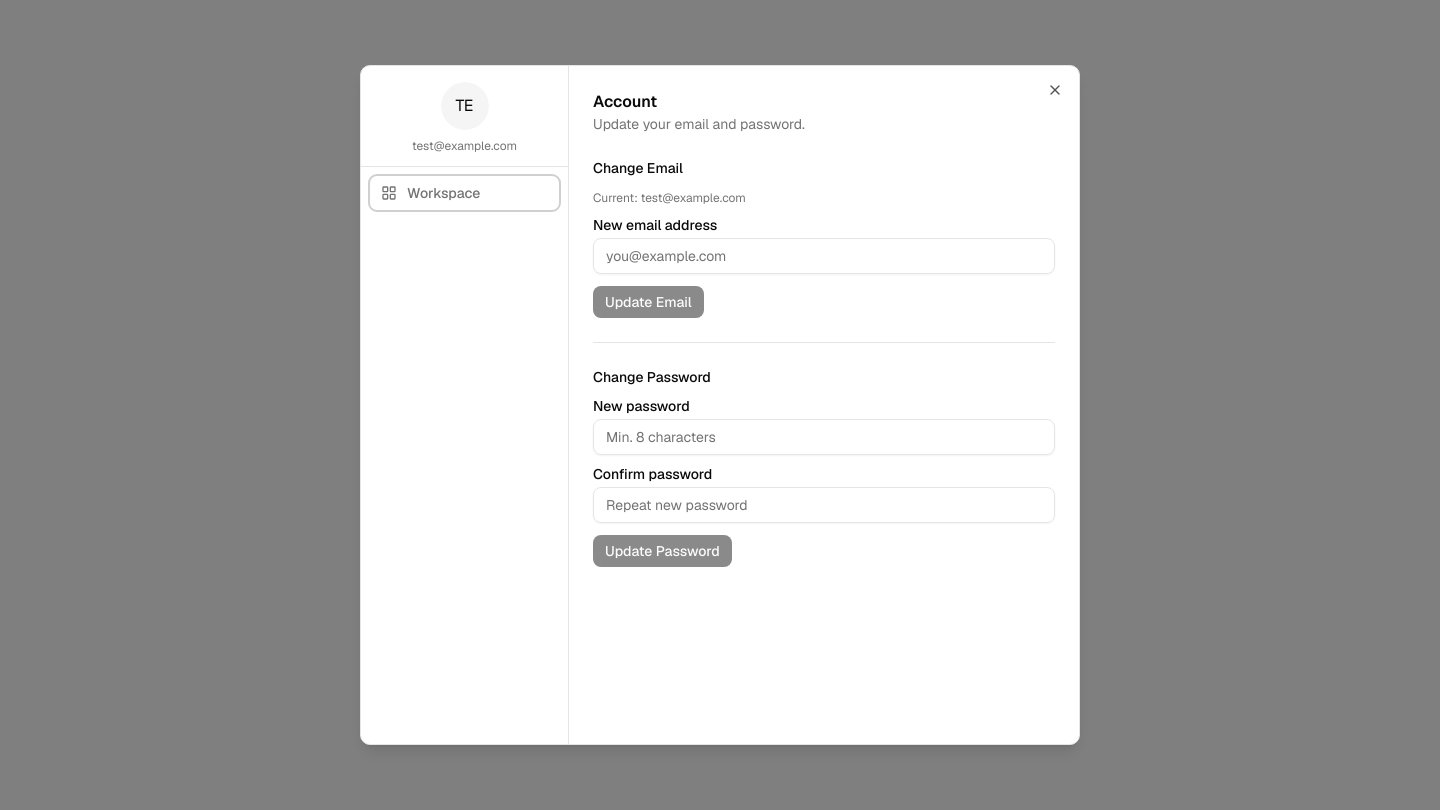
Test: AccountSettingsModal — password change › shows password validation error when password is too short
Expected: the dialog is shown, [360, 65, 1080, 745]
In the password field with placeholder "Min. 8 characters": point(824, 437) [593, 419, 1055, 455], type "short"
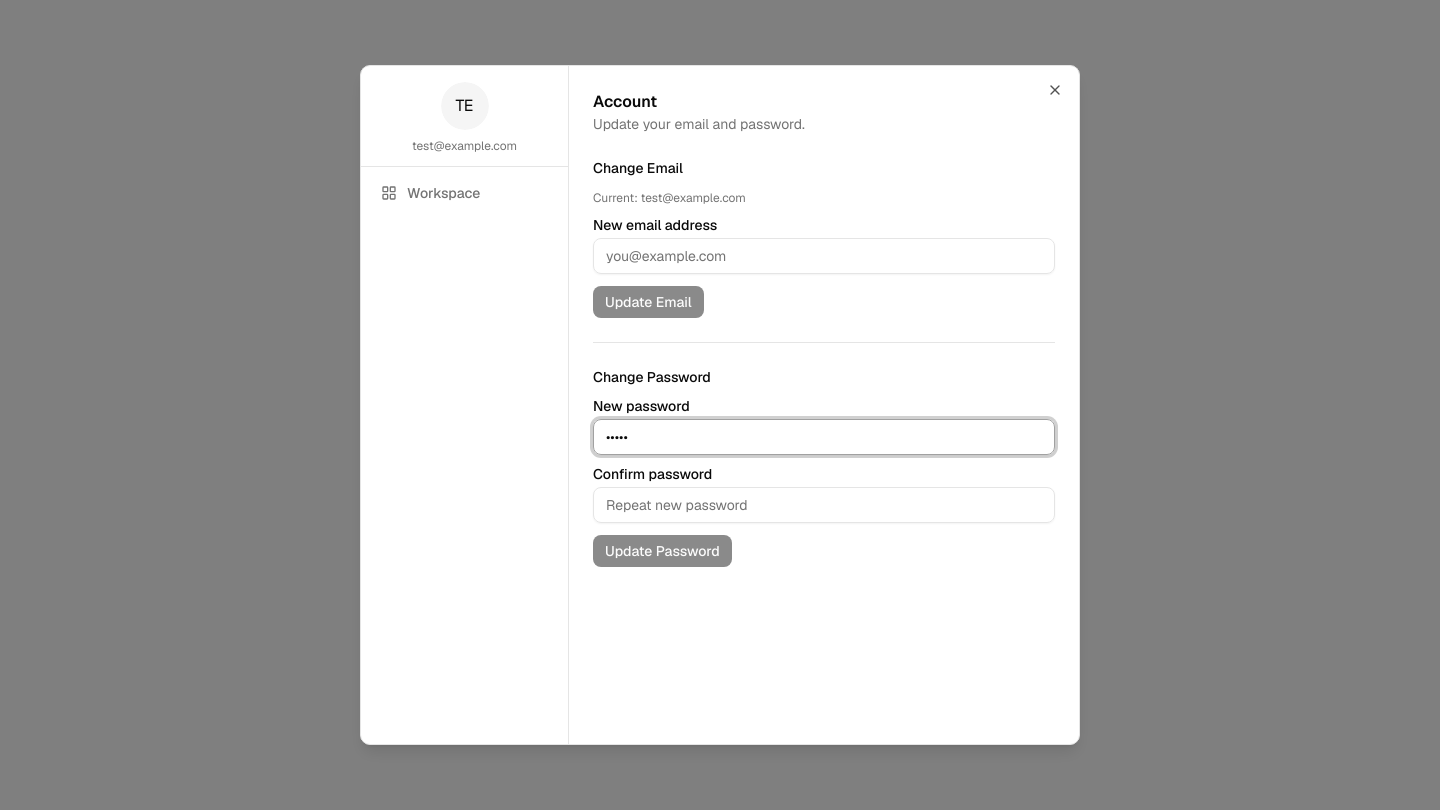
In the password field with placeholder "Repeat new password": point(824, 505) [593, 487, 1055, 523], type "short"
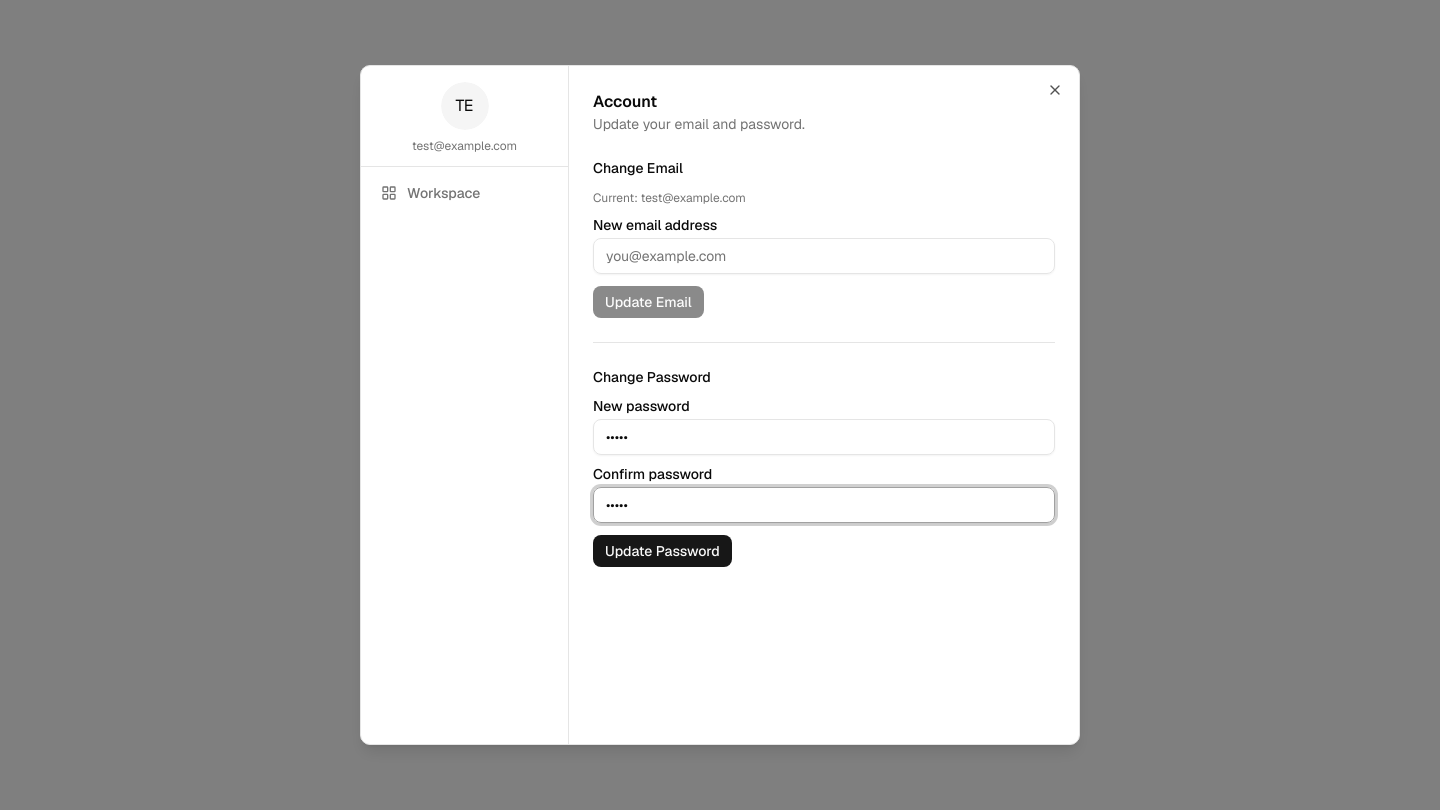
Submit the form that starts with "Change Password", box [593, 367, 1055, 567]
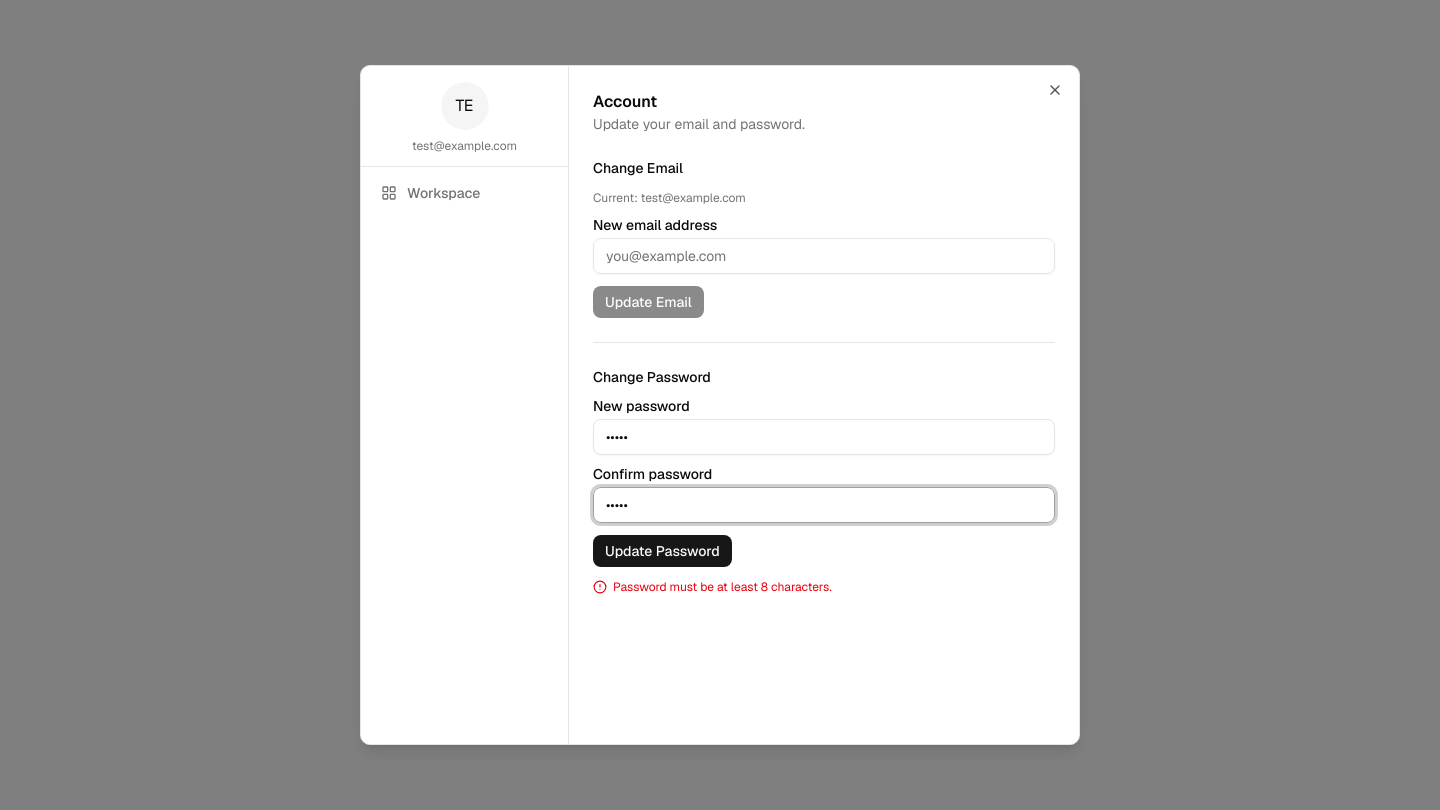
Now the text "Password must be at least 8 characters." is shown, box [593, 579, 832, 595]
